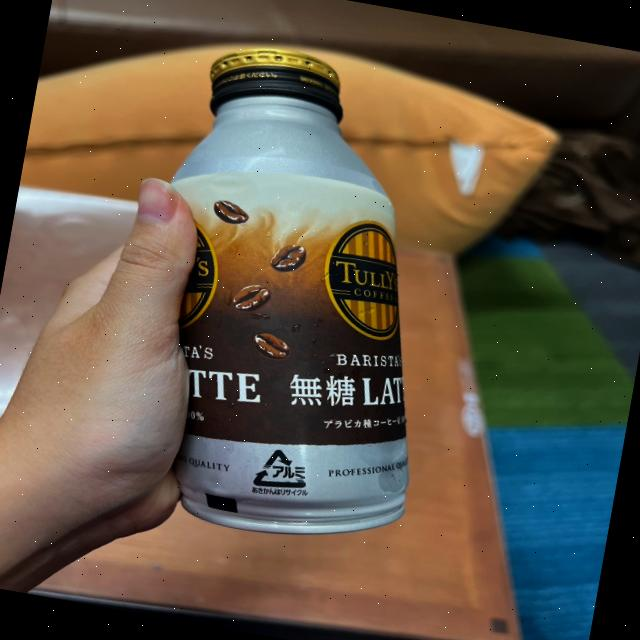coffee-latte: (102, 29, 480, 552)
